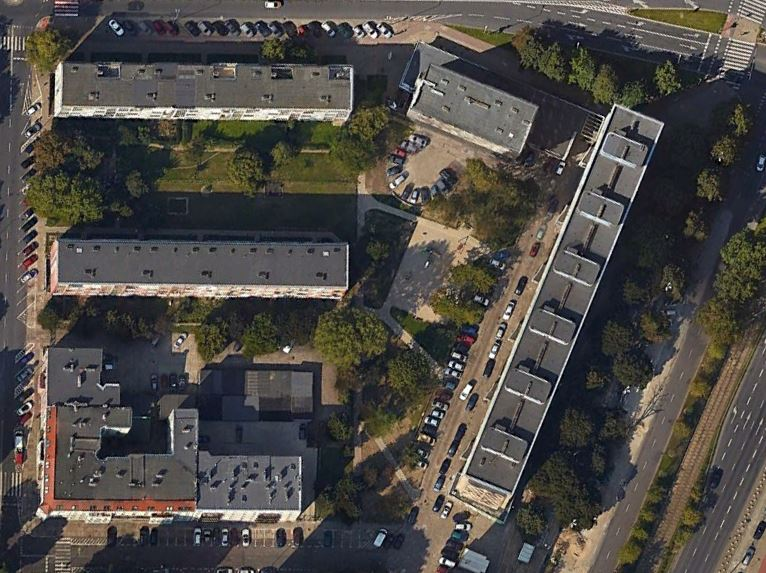block of flats: (450, 97, 669, 515), (38, 338, 312, 529), (41, 229, 358, 306), (49, 54, 357, 122), (404, 61, 540, 168)
